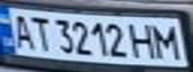1: (87, 19, 109, 57)
2: (103, 19, 130, 58), (69, 18, 90, 56)
3: (48, 16, 75, 55)
A: (6, 11, 39, 51)
H: (127, 20, 160, 60)
M: (148, 21, 184, 60)
T: (24, 12, 54, 52)
